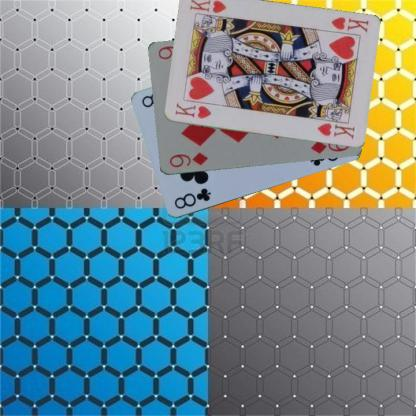8c: (171, 185, 212, 211)
9d: (166, 150, 210, 169)
Kh: (172, 100, 214, 120), (327, 15, 370, 34)
